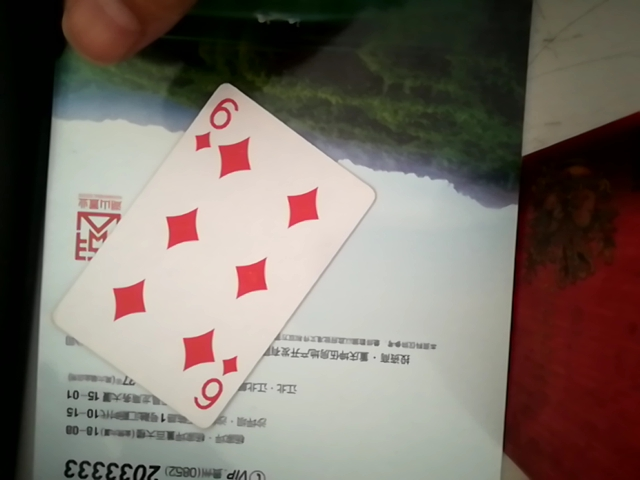fk 6: (59, 82, 375, 423)
